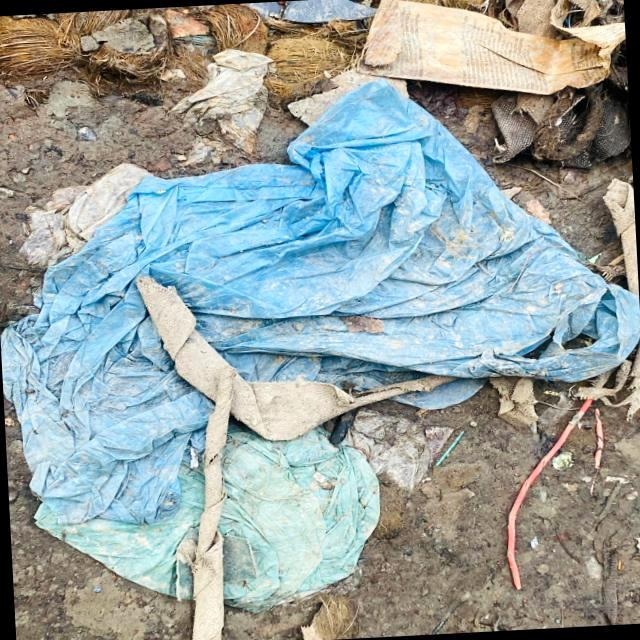polythene: (5, 82, 640, 514), (22, 424, 407, 624)
